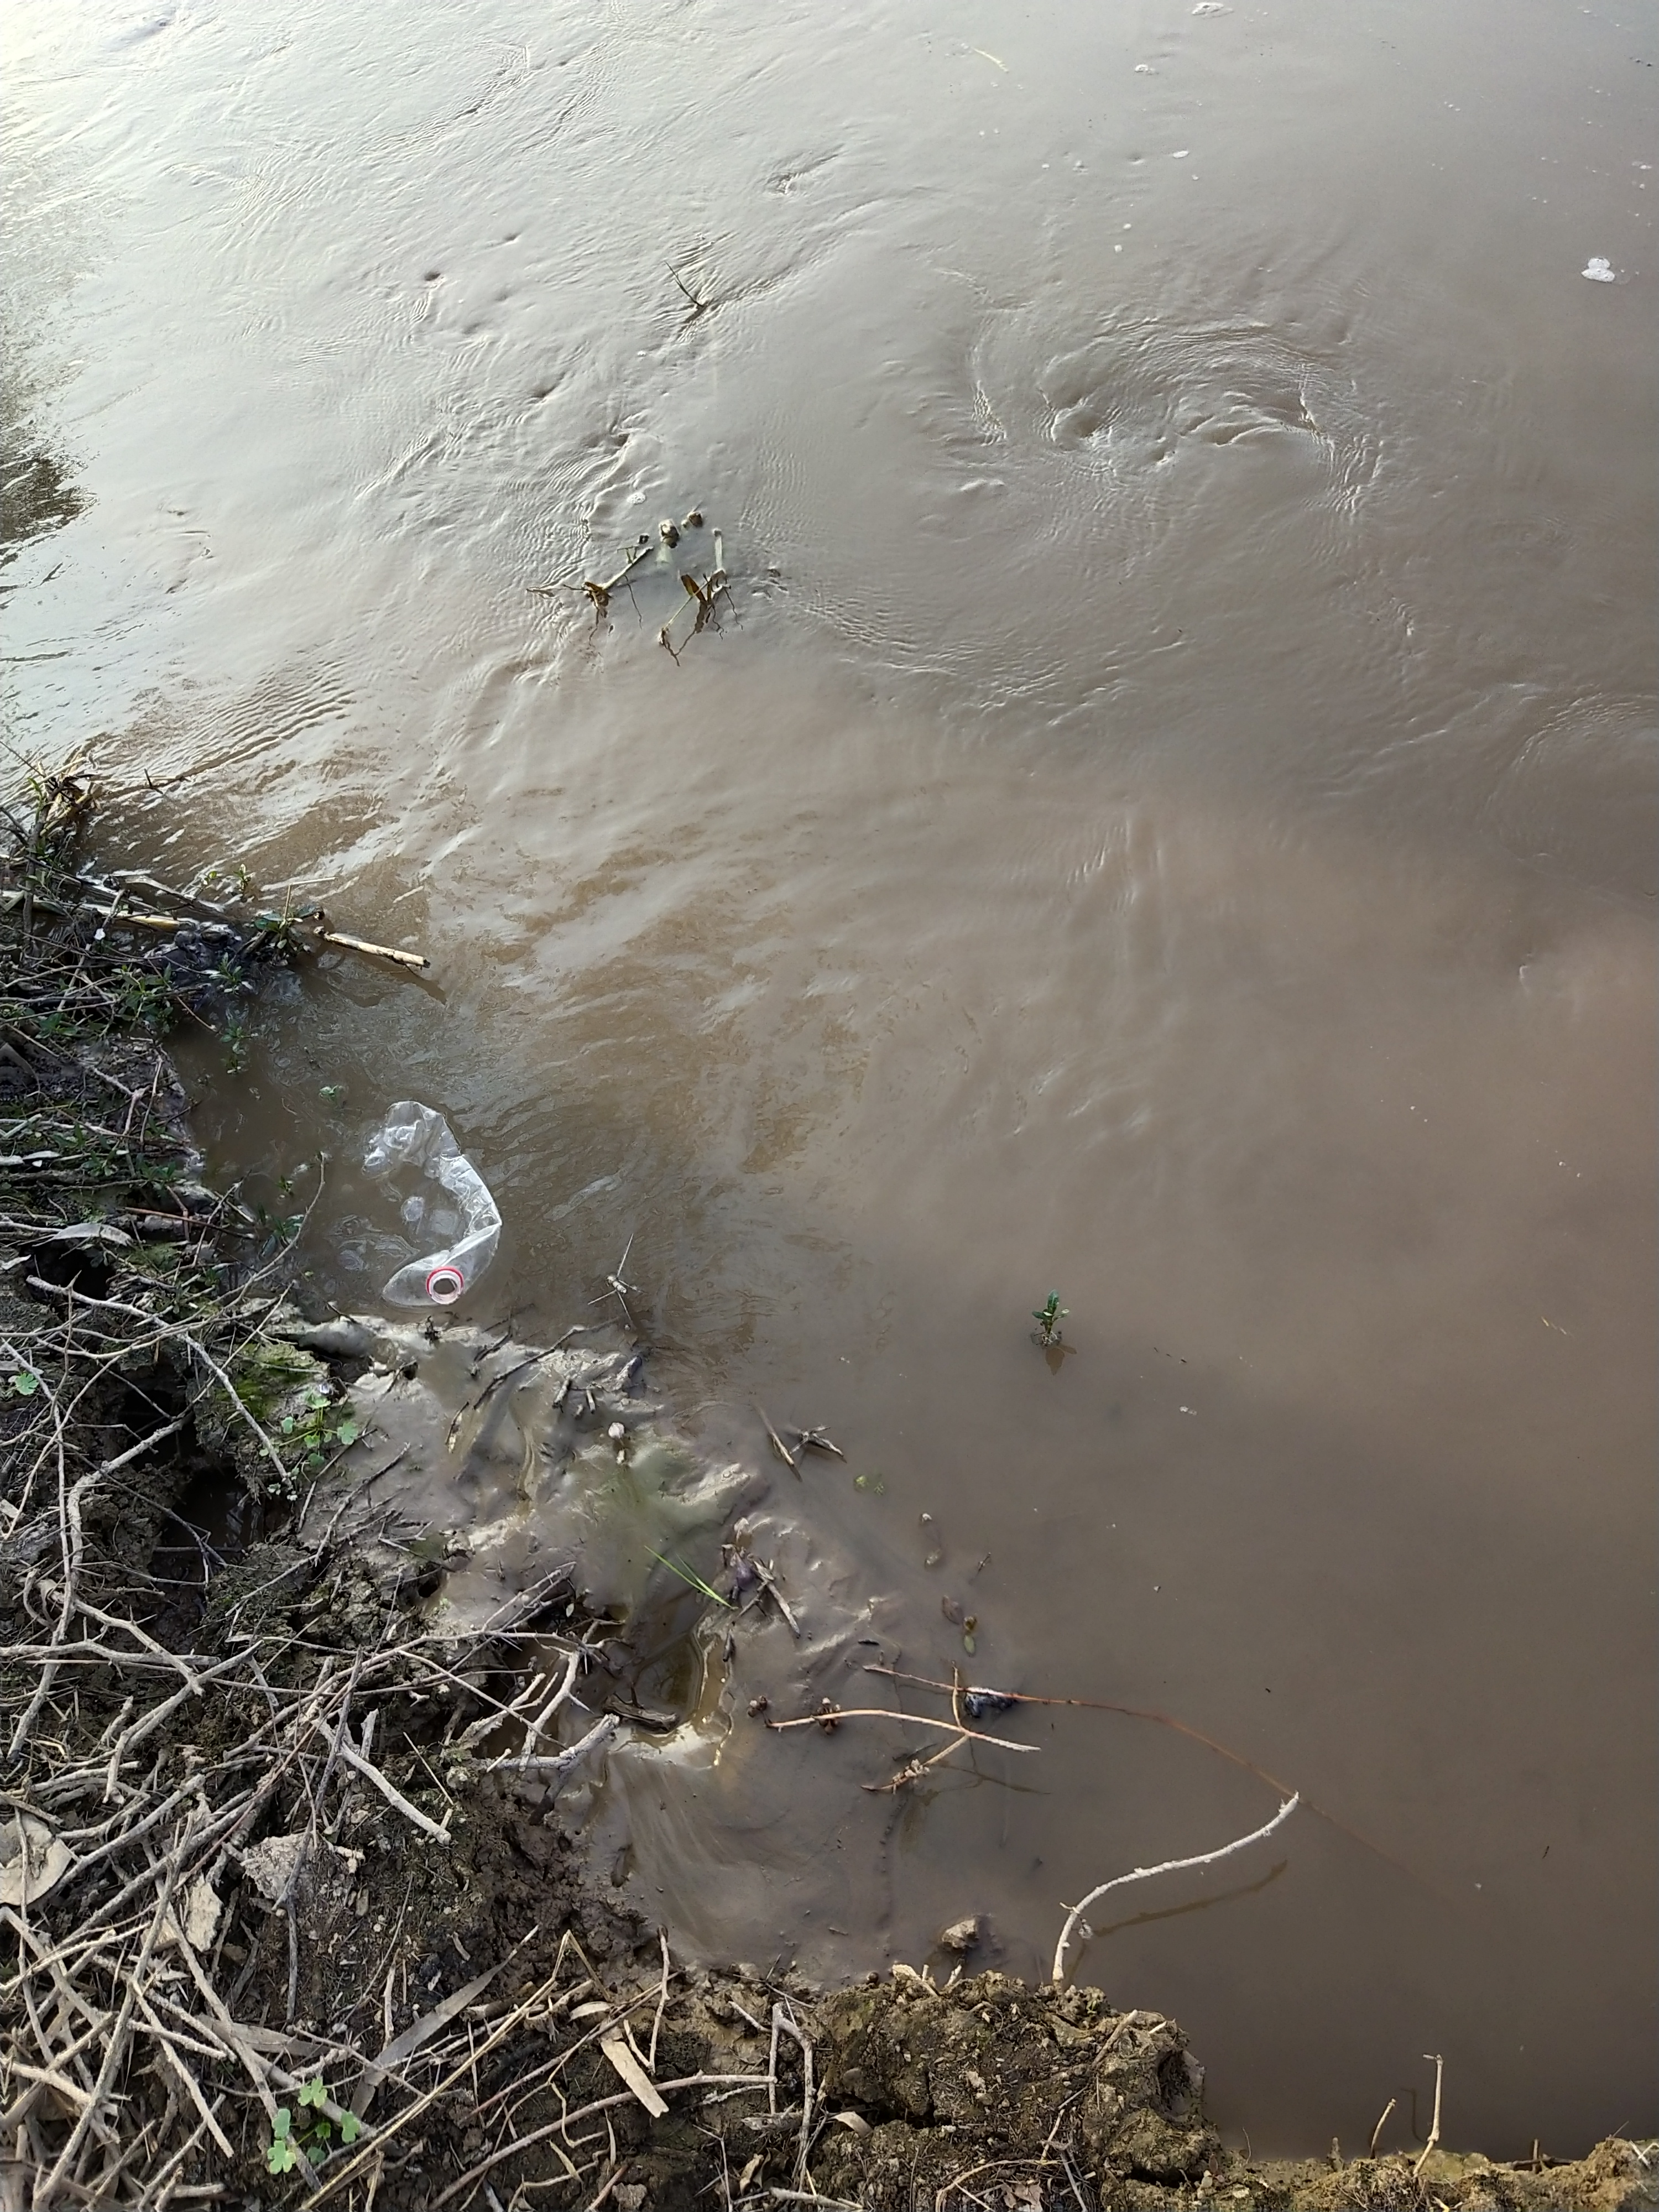Plastic Bottle: (361, 1101, 502, 1308)
